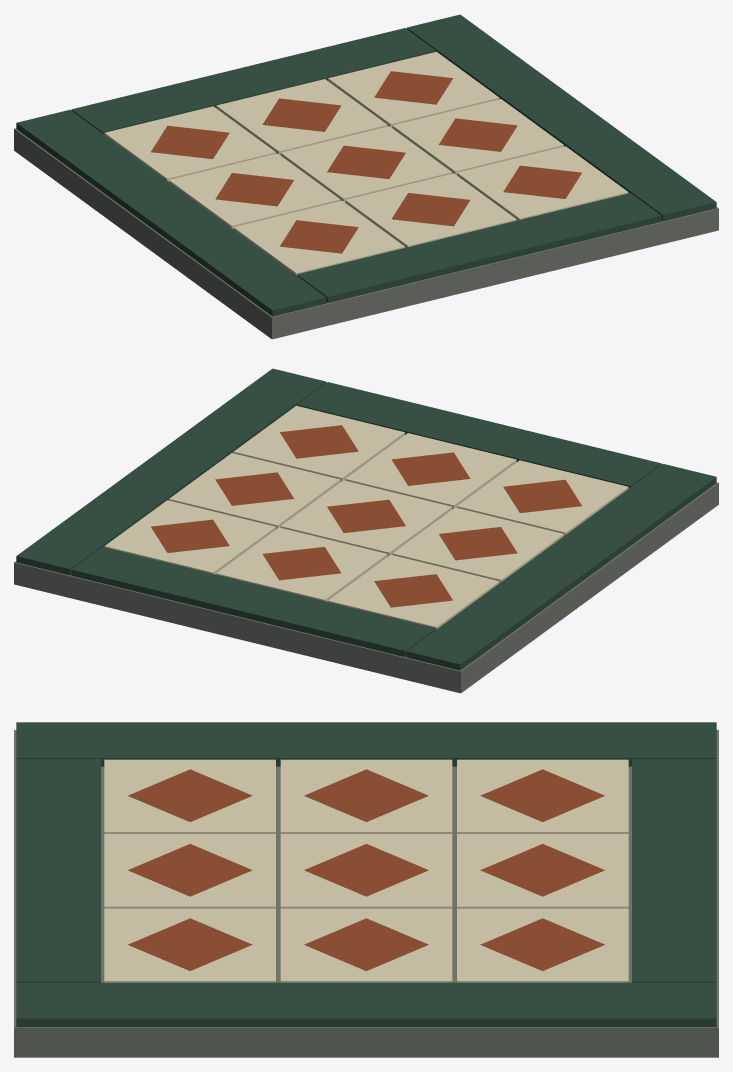
The model's file is five-foot-way-floor-tile.glb.
3 renders of one model, top to bottom at view 1: azimuth 30°, elevation 25°; view 2: azimuth 150°, elevation 25°; view 3: azimuth 270°, elevation 25°, orthographic. The views are drawn at different scales.
Parts seen in each view (by area): view 1: BASE_Mortar, BORDER_X_-1, BORDER_X_1, BORDER_Y_-1, BORDER_Y_1, TILE_Field_1_1, TILE_Field_1_2, TILE_Field_2_2, TILE_Field_2_1, TILE_Field_0_1, TILE_Field_0_2, TILE_Field_1_0 (+11 smaller); view 2: BASE_Mortar, BORDER_X_-1, BORDER_X_1, BORDER_Y_1, BORDER_Y_-1, TILE_Field_1_1, TILE_Field_1_0, TILE_Field_2_0, TILE_Field_2_1, TILE_Field_0_1, TILE_Field_0_0, TILE_Field_1_2 (+11 smaller); view 3: BORDER_X_1, BASE_Mortar, BORDER_X_-1, BORDER_Y_-1, BORDER_Y_1, TILE_Field_1_1, TILE_Field_2_1, TILE_Field_0_1, TILE_Field_0_0, TILE_Field_0_2, TILE_Field_1_0, TILE_Field_1_2 (+11 smaller).
Boxes of the visible parts, box(x1,y1,x2,y2) form: BASE_Mortar: box(14, 128, 718, 339); BORDER_X_-1: box(16, 110, 326, 316); BORDER_X_1: box(406, 14, 716, 221); BORDER_Y_-1: box(297, 193, 661, 302); BORDER_Y_1: box(71, 28, 435, 134); TILE_Field_1_1: box(280, 126, 452, 202); TILE_Field_1_2: box(216, 79, 387, 155); TILE_Field_2_2: box(328, 51, 499, 127); TILE_Field_2_1: box(392, 99, 563, 175); TILE_Field_0_1: box(169, 153, 340, 228); TILE_Field_0_2: box(104, 106, 275, 181); TILE_Field_1_0: box(345, 173, 516, 247); BASE_Mortar: box(14, 482, 718, 693); BORDER_X_-1: box(406, 464, 716, 670); BORDER_X_1: box(16, 368, 326, 575); BORDER_Y_1: box(71, 547, 435, 656); BORDER_Y_-1: box(297, 382, 661, 488); TILE_Field_1_1: box(280, 480, 452, 556); TILE_Field_1_0: box(345, 433, 516, 509); TILE_Field_2_0: box(233, 405, 404, 481); TILE_Field_2_1: box(169, 453, 340, 529); TILE_Field_0_1: box(392, 507, 563, 582); TILE_Field_0_0: box(457, 460, 628, 535); TILE_Field_1_2: box(216, 527, 387, 601); BORDER_X_1: box(16, 982, 716, 1026); BASE_Mortar: box(14, 730, 718, 1057); BORDER_X_-1: box(16, 722, 716, 766); BORDER_Y_-1: box(16, 759, 100, 982); BORDER_Y_1: box(632, 759, 716, 982); TILE_Field_1_1: box(280, 834, 452, 908); TILE_Field_2_1: box(280, 908, 452, 982); TILE_Field_0_1: box(280, 759, 452, 833); TILE_Field_0_0: box(104, 759, 275, 833); TILE_Field_0_2: box(457, 759, 628, 833); TILE_Field_1_0: box(104, 834, 275, 908); TILE_Field_1_2: box(457, 834, 628, 908).
Bounding box in the file's own units: 0.6 × 0.0362 × 0.6.
